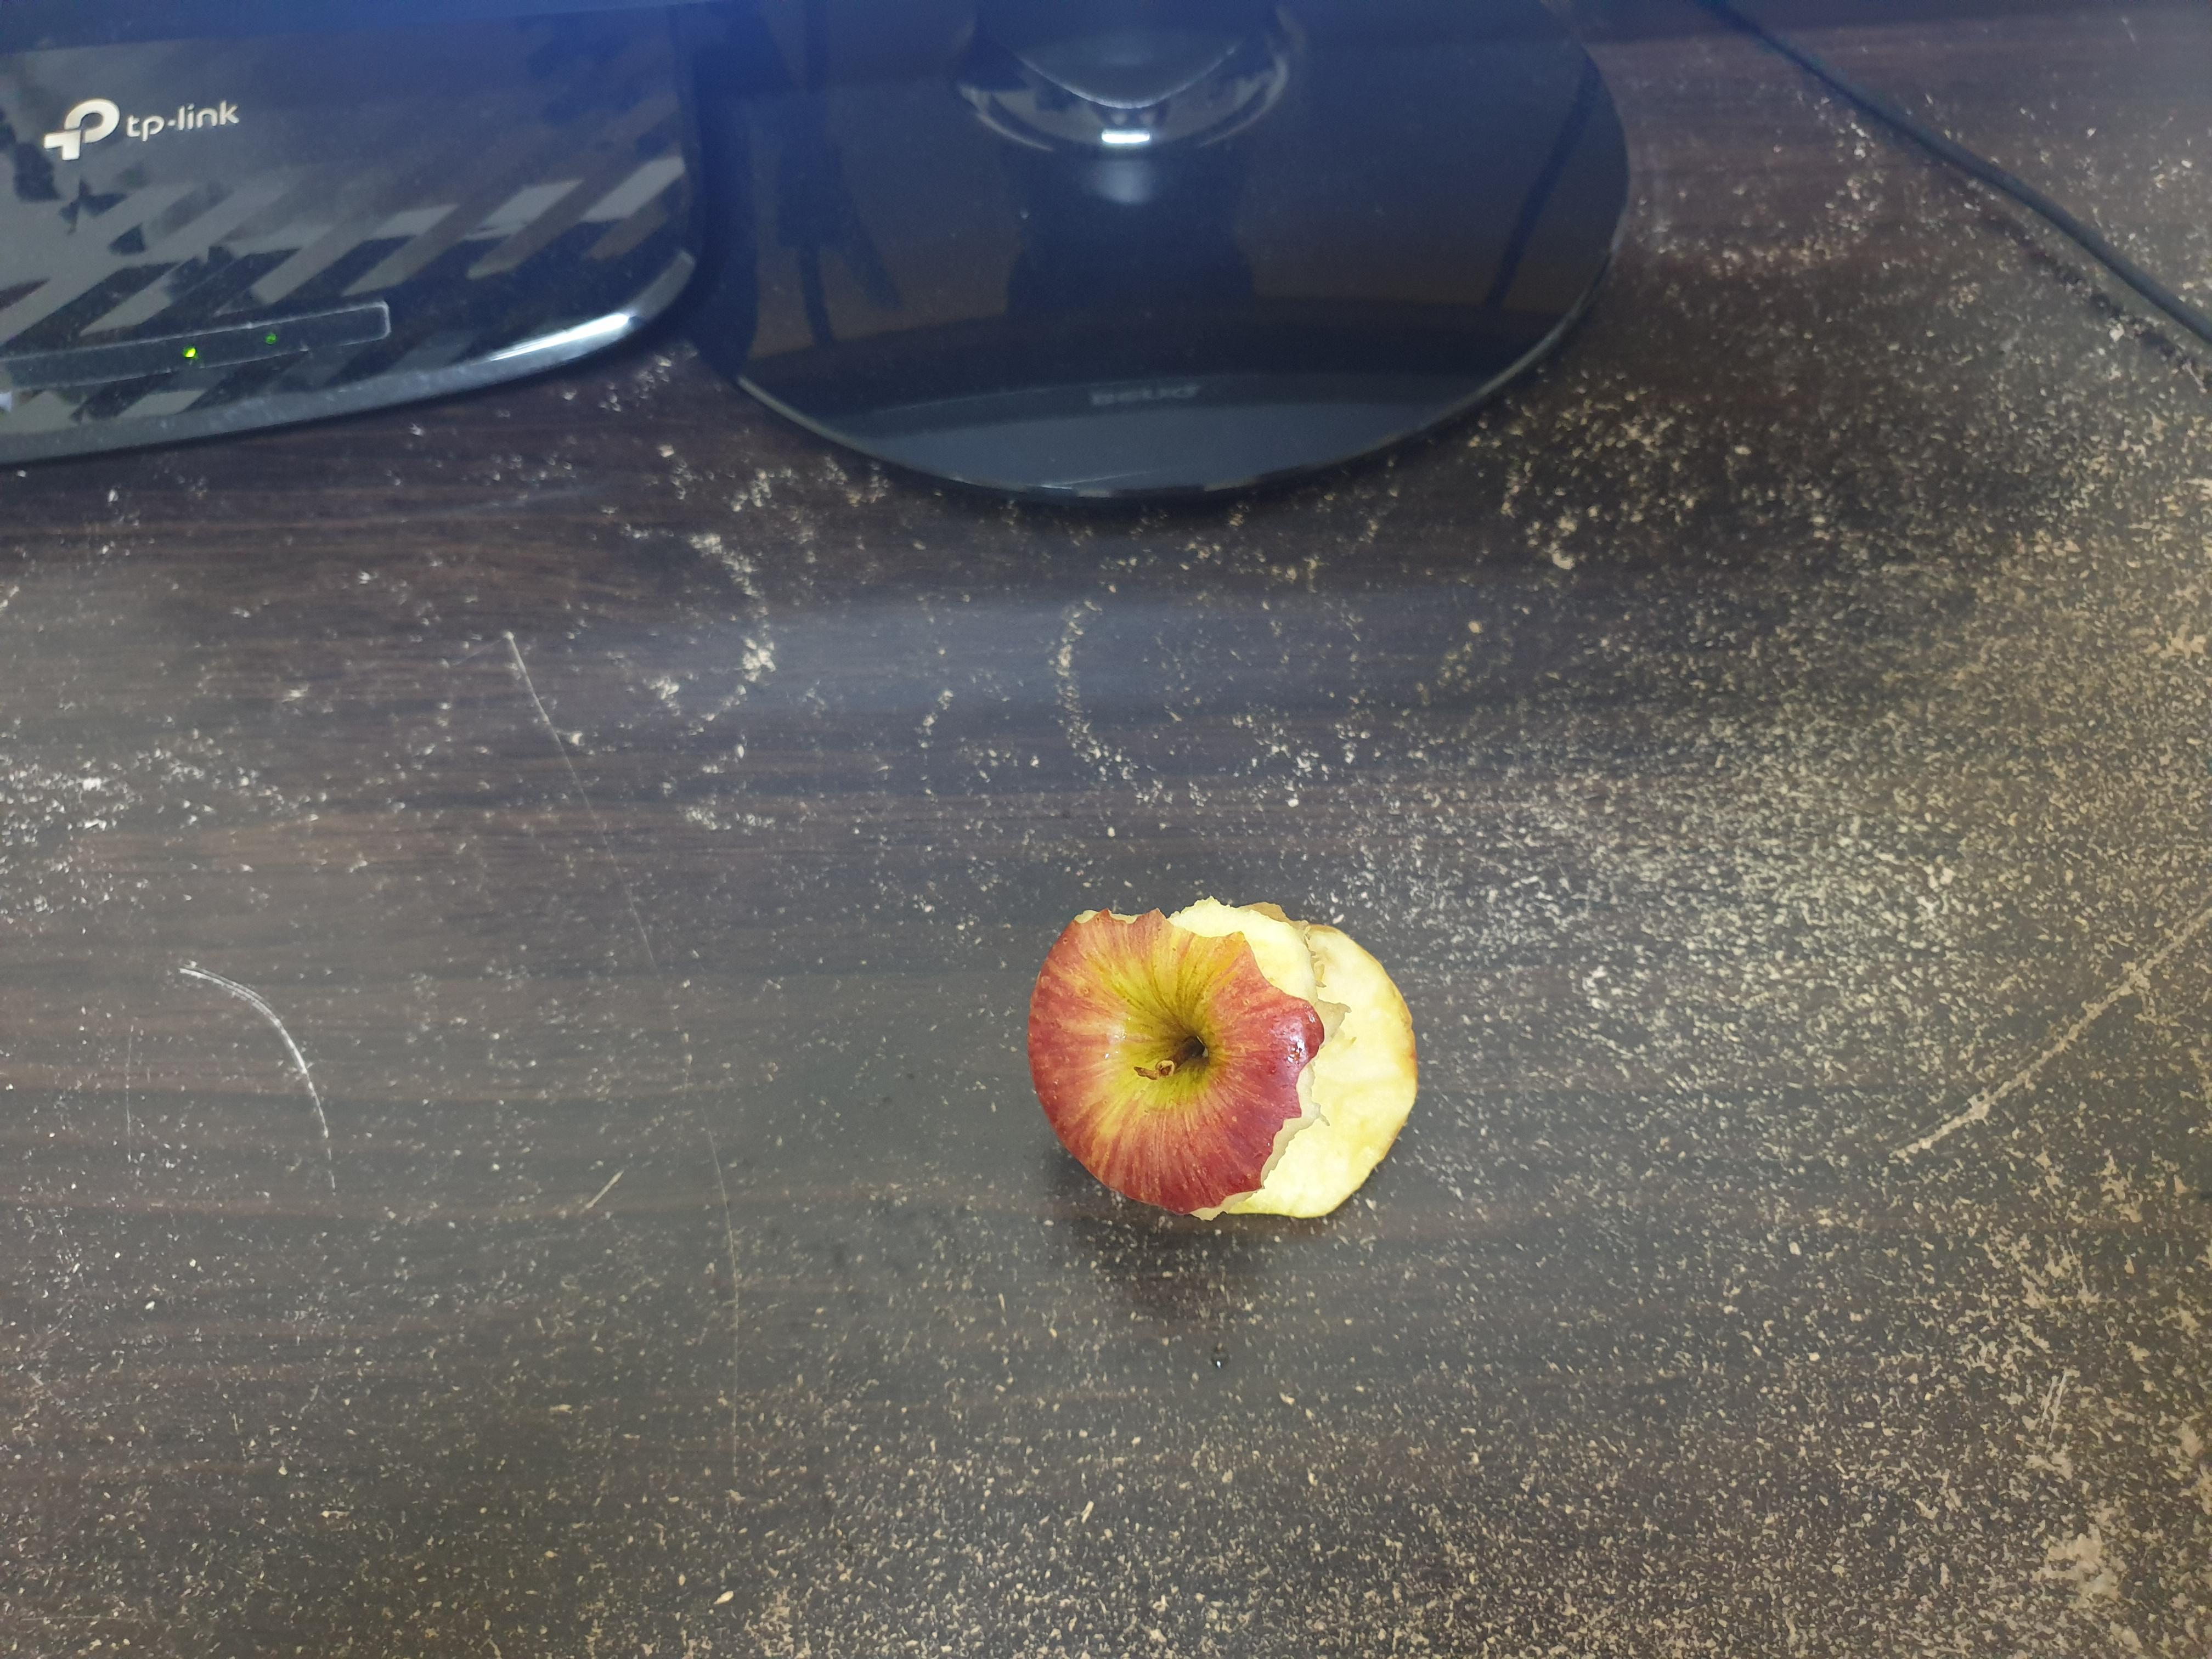Apple: (1014, 854, 1439, 1248)
